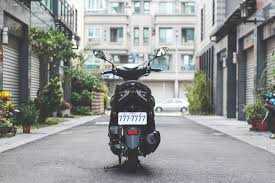motorcycle: (92, 45, 173, 174)
